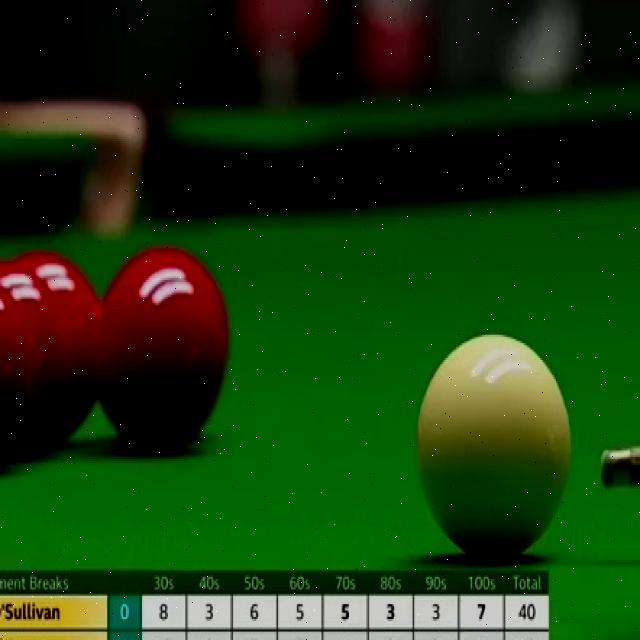red-ball: (97, 245, 232, 454), (14, 252, 99, 446), (0, 263, 65, 455), (0, 278, 28, 480)
white-ball: (416, 333, 576, 560)
